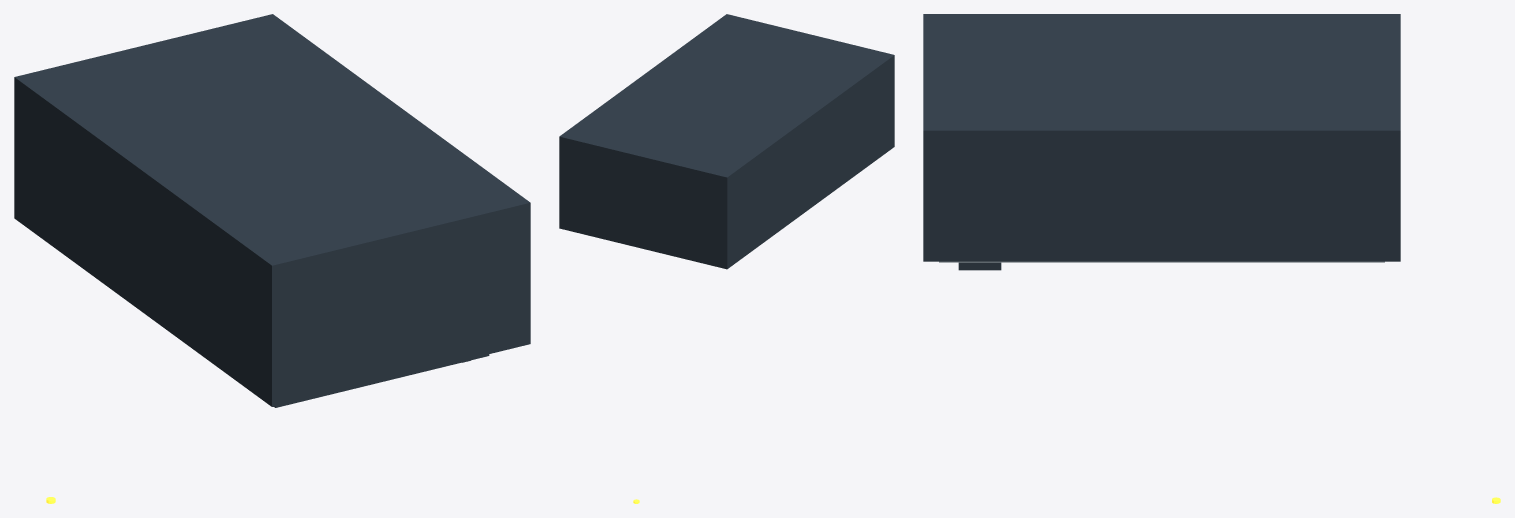
File: cybershield_enterprise_server.glb
3 views of the same model, side by side, from view 1: azimuth 30°, elevation 25°; view 2: azimuth 150°, elevation 25°; view 3: azimuth 270°, elevation 25° (orthographic). The views are drawn at different scales.
Visible parts, largest first — view 1: rack_frame; view 2: rack_frame; view 3: rack_frame, front_panel.
Boxes of the visible parts, x1,y1,x2,y2 form: rack_frame: (14, 14, 530, 406); rack_frame: (559, 14, 894, 269); rack_frame: (923, 14, 1400, 261); front_panel: (939, 261, 1384, 262).
Bounding box in the file's own units: 2.2 × 3.94 × 4.59.
